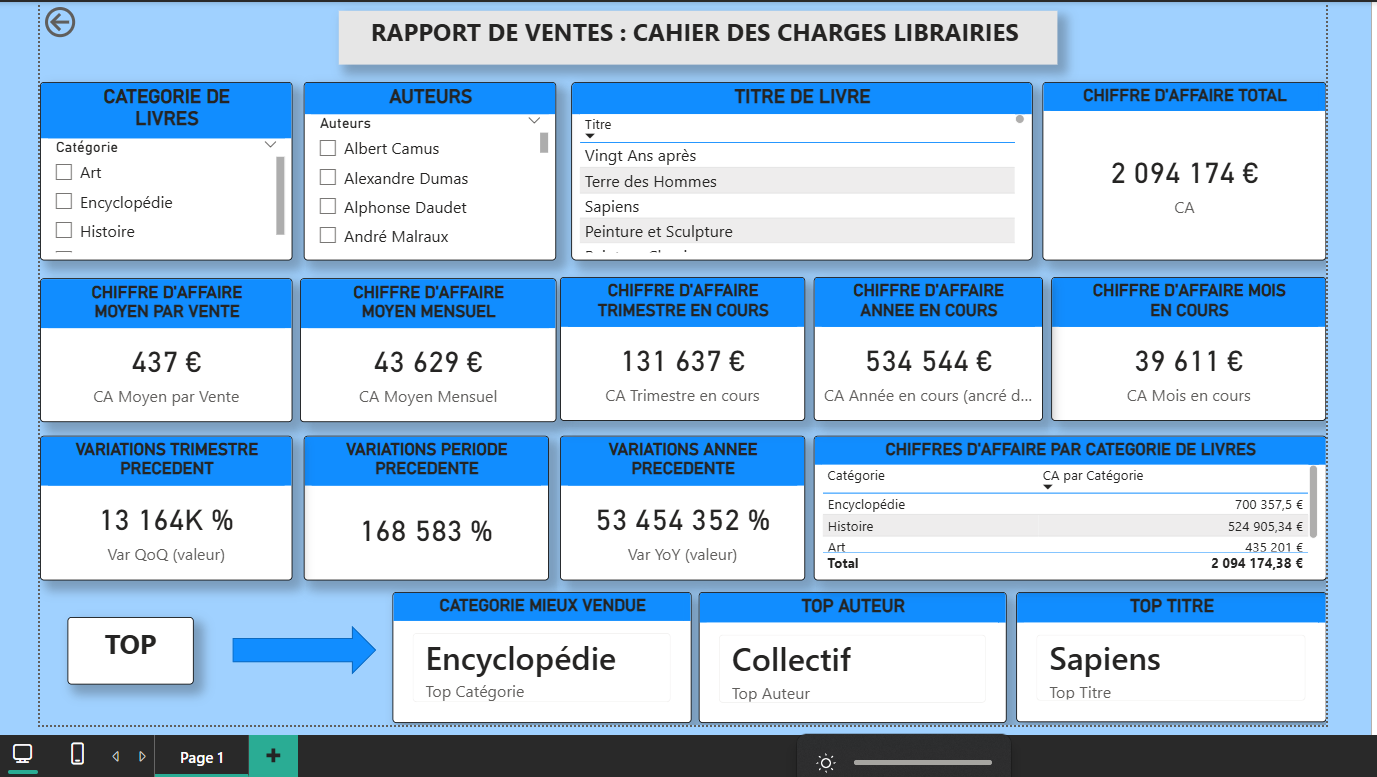

Layout of this report page (visuals, bound fields, positions):
{"tool":"powerbi","page":{"name":"Page 1","canvas":[1280,720],"ordinal":0},"visuals":[{"type":"textbox","box":[297.3,8.7,715.3,53.5],"z":0},{"type":"tableEx","title":"TITRE DE LIVRE","fields":{"Values":["livres.Titre"]},"box":[528.7,79.6,459,177.9],"z":1000},{"type":"slicer","title":"CATEGORIE DE LIVRES","fields":{"Values":["livres.Catégorie"]},"box":[0,79.6,251.3,177.9],"z":2000},{"type":"card","title":"CHIFFRE D''AFFAIRE TOTAL","fields":{"Values":["_Mesure.CA"]},"box":[997.7,79.6,282.4,177.9],"z":3000},{"type":"card","title":"CHIFFRE D''AFFAIRE MOYEN PAR VENTE","fields":{"Values":["_Mesure.CA Moyen par Vente"]},"box":[0,274.9,251.3,143.1],"z":4000},{"type":"slicer","title":"AUTEURS","fields":{"Values":["livres.Auteurs"]},"box":[262.5,79.6,251.3,177.9],"z":5000},{"type":"card","title":"CHIFFRE D''AFFAIRE MOYEN MENSUEL","fields":{"Values":["_Mesure.CA Moyen Mensuel"]},"box":[258.7,274.9,255,143.1],"z":6000},{"type":"card","title":"CHIFFRE D''AFFAIRE MOIS EN COURS","fields":{"Values":["_Mesure.CA Mois en cours"]},"box":[1006.4,273.7,273.7,143.1],"z":7000},{"type":"card","title":"VARIATIONS PERIODE PRECEDENTE","fields":{"Values":["_Mesure.Var MoM (valeur)"]},"box":[262.5,431.7,243.8,144.3],"z":8000},{"type":"card","title":"VARIATIONS TRIMESTRE PRECEDENT","fields":{"Values":["_Mesure.Var QoQ (valeur)"]},"box":[0,431.7,251.3,144.3],"z":9000},{"type":"card","title":"VARIATIONS ANNEE PRECEDENTE","fields":{"Values":["_Mesure.Var YoY (valeur)"]},"box":[517.5,431.7,243.8,144.3],"z":10000},{"type":"cardVisual","title":"CATEGORIE MIEUX VENDUE","fields":{"Data":["_Mesure.Top Catégorie"]},"box":[350.8,587.1,297.3,130.6],"z":11000},{"type":"cardVisual","title":"TOP AUTEUR","fields":{"Data":["_Mesure.Top Auteur"]},"box":[655.6,587.1,306,130.6],"z":11001},{"type":"cardVisual","title":"TOP TITRE","fields":{"Data":["_Mesure.Top Titre"]},"box":[971.5,587.1,308.5,129.4],"z":11002},{"type":"tableEx","title":"CHIFFRES D''AFFAIRE PAR CATEGORIE DE LIVRES","fields":{"Values":["livres.Catégorie","_Mesure.CA par Catégorie"]},"box":[770,431.7,510,144.3],"z":11003},{"type":"actionButton","box":[0,0,100,40],"z":11004},{"type":"card","title":"CHIFFRE D''AFFAIRE TRIMESTRE EN COURS","fields":{"Values":["_Mesure.CA Trimestre en cours"]},"box":[517.5,273.7,243.8,143.1],"z":11005},{"type":"card","title":"CHIFFRE D''AFFAIRE ANNEE EN COURS","fields":{"Values":["_Mesure.CA Année en cours (ancré données)"]},"box":[770,273.7,227.6,143.1],"z":11006},{"type":"textbox","box":[27.4,612,125.6,67.2],"z":11007},{"type":"shape","box":[191.6,620.7,143.1,48.5],"z":11008}]}

Visuals, with their boxes in screenshot pixels (x1, y1, x2, y2):
textbox: locate(333, 2, 1065, 56)
"TITRE DE LIVRE" tableEx: locate(570, 74, 1039, 256)
"CATEGORIE DE LIVRES" slicer: locate(29, 74, 286, 256)
"CHIFFRE D''AFFAIRE TOTAL" card: locate(1050, 74, 1339, 256)
"CHIFFRE D''AFFAIRE MOYEN PAR VENTE" card: locate(29, 274, 286, 421)
"AUTEURS" slicer: locate(297, 74, 554, 256)
"CHIFFRE D''AFFAIRE MOYEN MENSUEL" card: locate(293, 274, 554, 421)
"CHIFFRE D''AFFAIRE MOIS EN COURS" card: locate(1059, 273, 1339, 419)
"VARIATIONS PERIODE PRECEDENTE" card: locate(297, 435, 547, 582)
"VARIATIONS TRIMESTRE PRECEDENT" card: locate(29, 435, 286, 582)
"VARIATIONS ANNEE PRECEDENTE" card: locate(558, 435, 808, 582)
"CATEGORIE MIEUX VENDUE" cardVisual: locate(388, 594, 692, 727)
"TOP AUTEUR" cardVisual: locate(700, 594, 1013, 727)
"TOP TITRE" cardVisual: locate(1023, 594, 1339, 726)
"CHIFFRES D''AFFAIRE PAR CATEGORIE DE LIVRES" tableEx: locate(817, 435, 1339, 582)
actionButton: locate(29, 0, 131, 34)
"CHIFFRE D''AFFAIRE TRIMESTRE EN COURS" card: locate(558, 273, 808, 419)
"CHIFFRE D''AFFAIRE ANNEE EN COURS" card: locate(817, 273, 1050, 419)
textbox: locate(57, 619, 185, 688)
shape: locate(225, 628, 371, 678)
